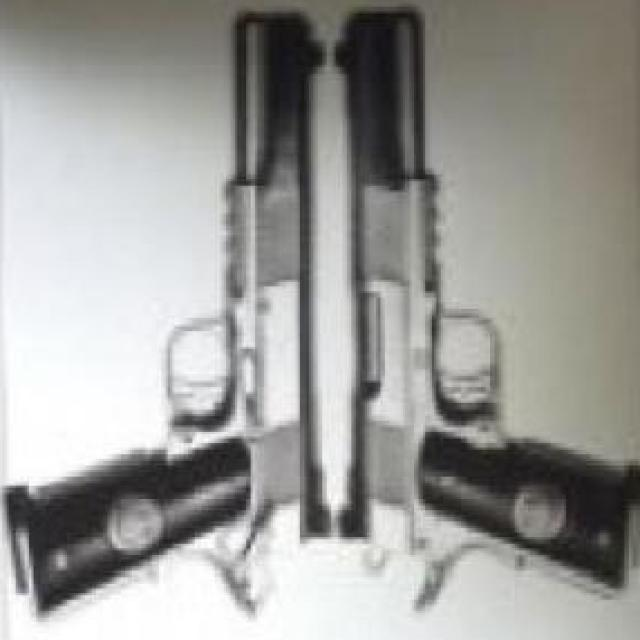pistol: (331, 11, 640, 640), (20, 11, 322, 638)
